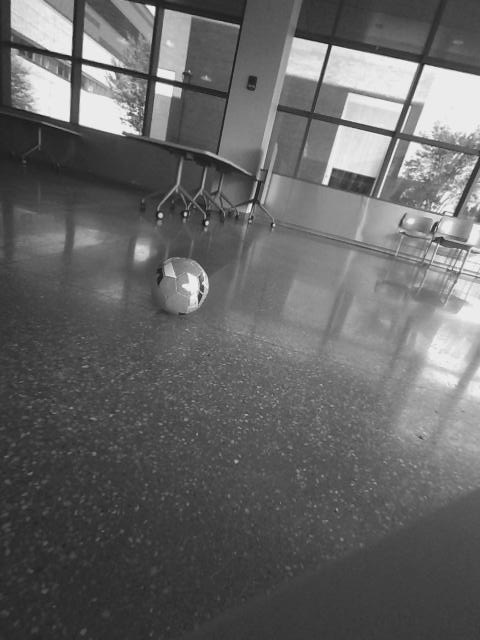ball: (147, 254, 212, 318)
